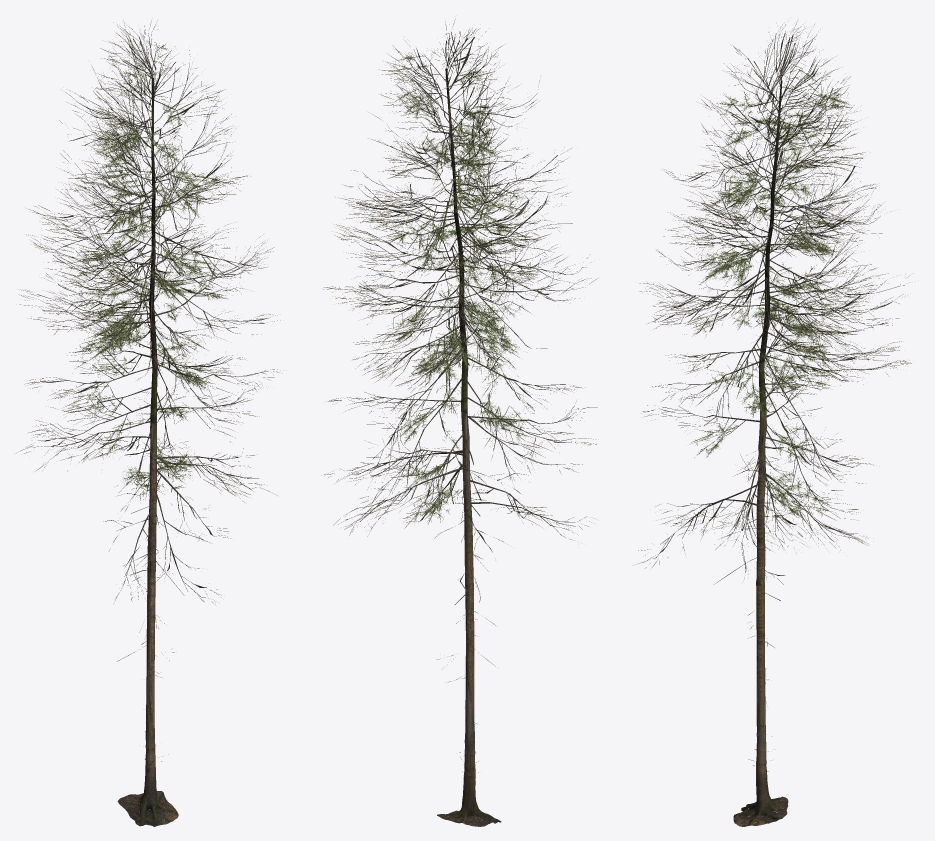
Rendered from fir.glb.
The picture shows the model from 3 angles, left to right: view 1: azimuth 30°, elevation 25°; view 2: azimuth 150°, elevation 25°; view 3: azimuth 270°, elevation 25°; orthographic projection. The views are drawn at different scales.
Parts seen in each view (by area): view 1: LOD0; view 2: LOD0; view 3: LOD0.
Boxes of the visible parts, x1,y1,x2,y2 form: LOD0: [20, 20, 283, 826]; LOD0: [321, 19, 597, 826]; LOD0: [638, 21, 911, 826].
Size of what is drawn, in the model's own units: 6.31 by 18.77 by 6.19.
Materials: 4 (4 with a texture image).
